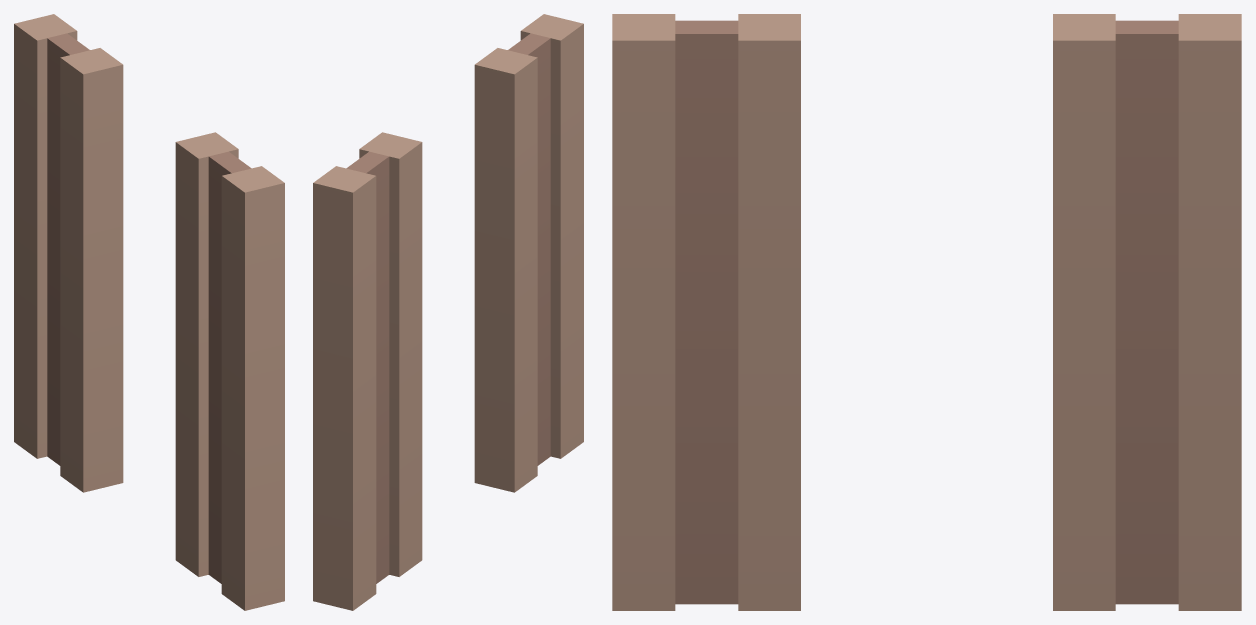
Rendered from wall-wood-doorway-base.glb.
The picture shows the model from 3 angles, left to right: view 1: azimuth 30°, elevation 25°; view 2: azimuth 150°, elevation 25°; view 3: azimuth 270°, elevation 25°; orthographic projection. The views are drawn at different scales.
Parts seen in each view (by area): view 1: wall-wood-doorway-base; view 2: wall-wood-doorway-base; view 3: wall-wood-doorway-base.
Part boxes in pixels (box(x1,y1,x2,y2)): wall-wood-doorway-base: box(14, 14, 284, 610); wall-wood-doorway-base: box(313, 14, 583, 610); wall-wood-doorway-base: box(612, 14, 1241, 610).
Bounding box in the file's own units: 0.1 × 1 × 1.
